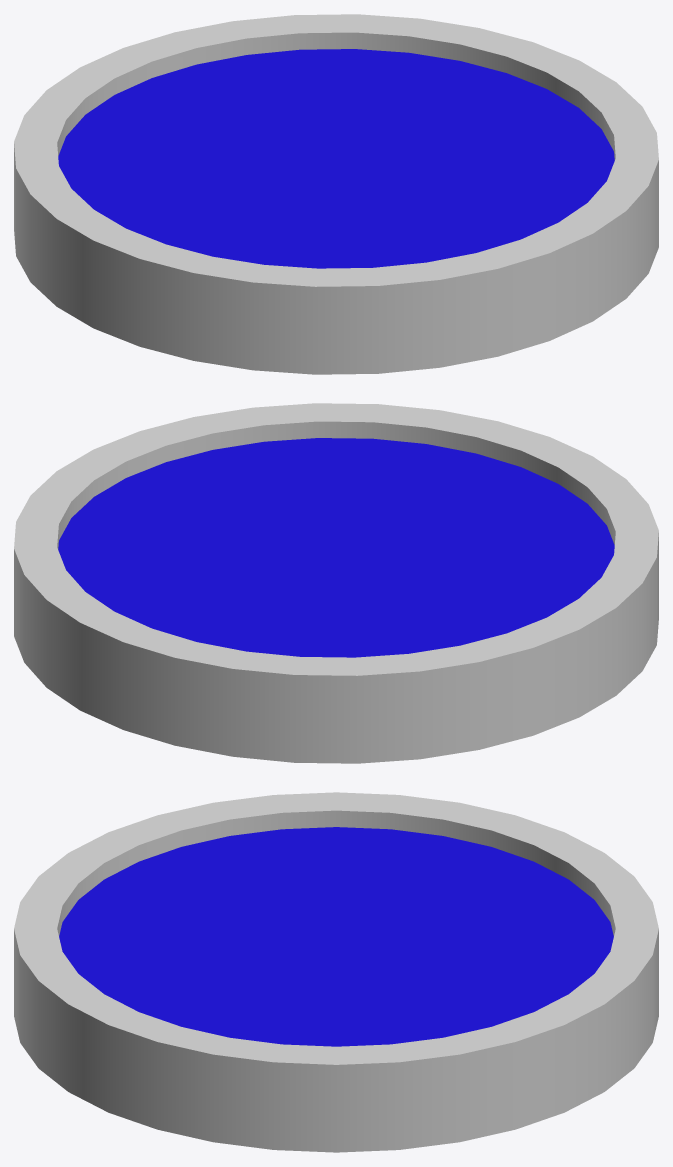
Rendered from SpawnYMeta.fbx.
The picture shows the model from 3 angles, top to bottom: view 1: azimuth 30°, elevation 25°; view 2: azimuth 150°, elevation 25°; view 3: azimuth 270°, elevation 25°; orthographic projection.
Visible parts, largest first — view 1: Cylinder; view 2: Cylinder; view 3: Cylinder.
Boxes of the visible parts, x1,y1,x2,y2 form: Cylinder: (14,14,658,374); Cylinder: (14,403,658,763); Cylinder: (14,792,658,1152).
Bounding box in the file's own units: 200 × 30 × 200.
